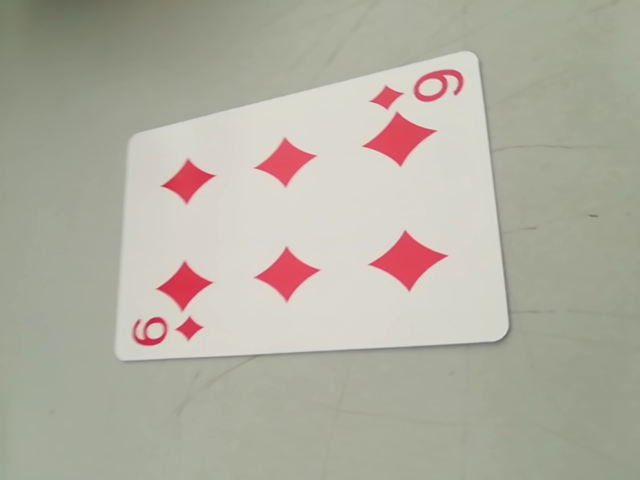fk 6: (369, 65, 467, 113), (125, 307, 209, 360)
